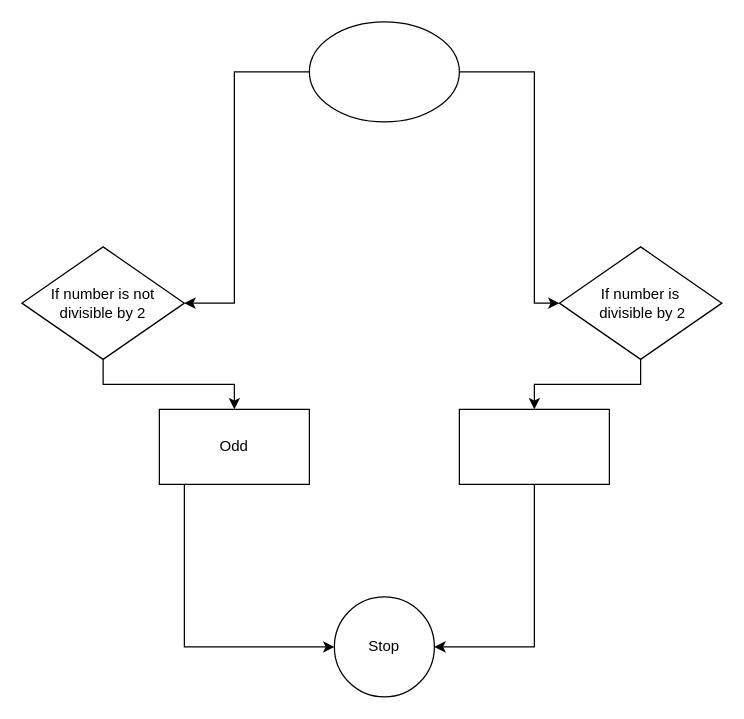
Image size: 744x719. Some labels were removed from this diagram. Here are the shapes that lost their labels. From the top down, the centre of each, then its label:
point 383,71: Number
point 533,446: Even
